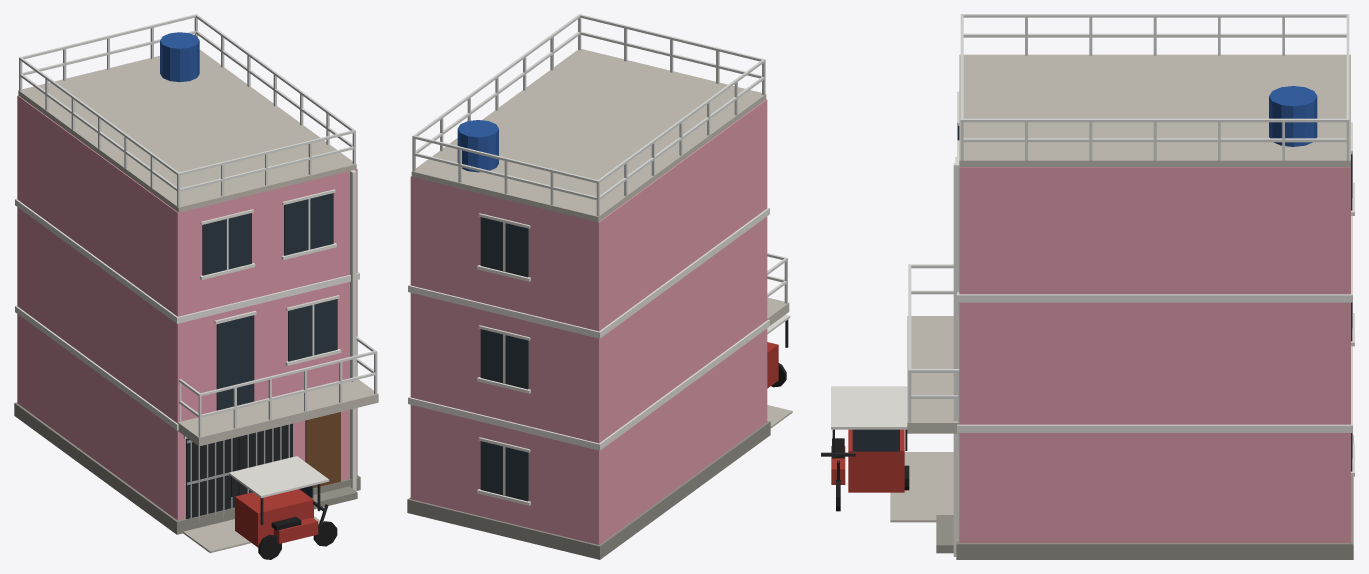
The model's file is BAY_F_ThreeStorey_D.glb.
3 renders of one model, left to right at view 1: azimuth 30°, elevation 25°; view 2: azimuth 150°, elevation 25°; view 3: azimuth 270°, elevation 25°, orthographic. The views are drawn at different scales.
Parts seen in each view (by area): view 1: BAY_F_ThreeStorey_D; view 2: BAY_F_ThreeStorey_D; view 3: BAY_F_ThreeStorey_D.
Boxes of the visible parts, left/top/right/bottom form: BAY_F_ThreeStorey_D: left=14, top=14, right=378, bottom=559; BAY_F_ThreeStorey_D: left=407, top=14, right=792, bottom=559; BAY_F_ThreeStorey_D: left=821, top=14, right=1354, bottom=559.
Size of the model in its own units: 4.5 by 8.4 by 9.27.
1 material, 1 textured.
